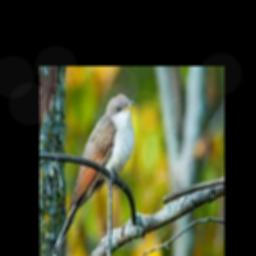Cuckoo: (48, 93, 135, 256)
